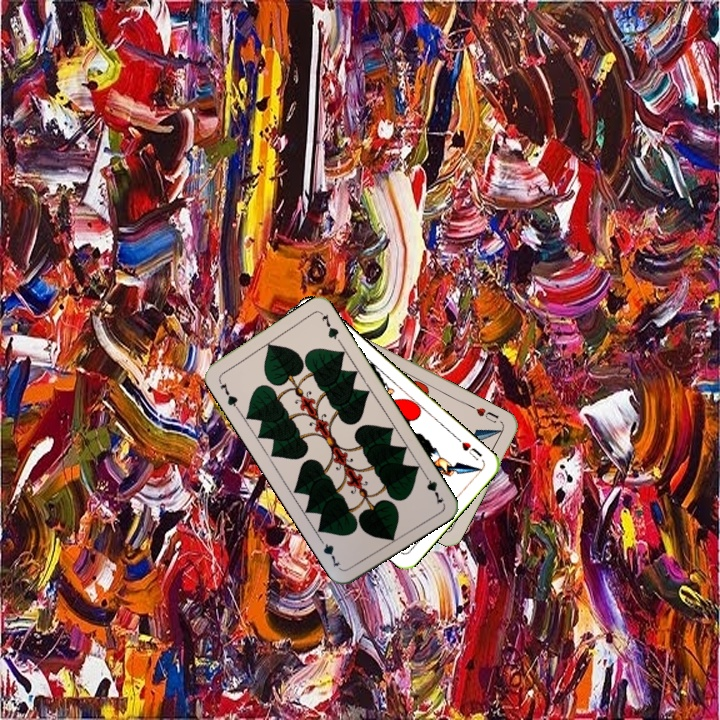G7: (419, 469, 446, 507), (215, 376, 241, 412)
HU: (452, 433, 485, 463), (467, 402, 501, 425)
